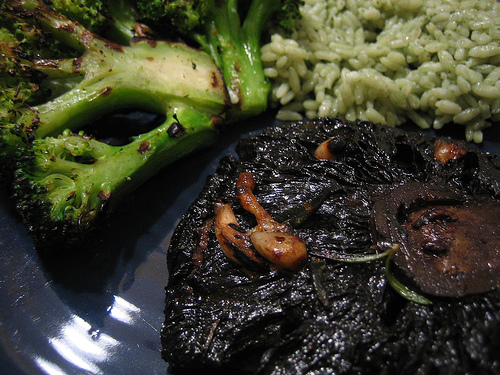broccoli: (0, 0, 232, 258), (134, 0, 307, 117)
